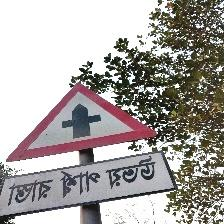Crossroad: (0, 65, 184, 224)
